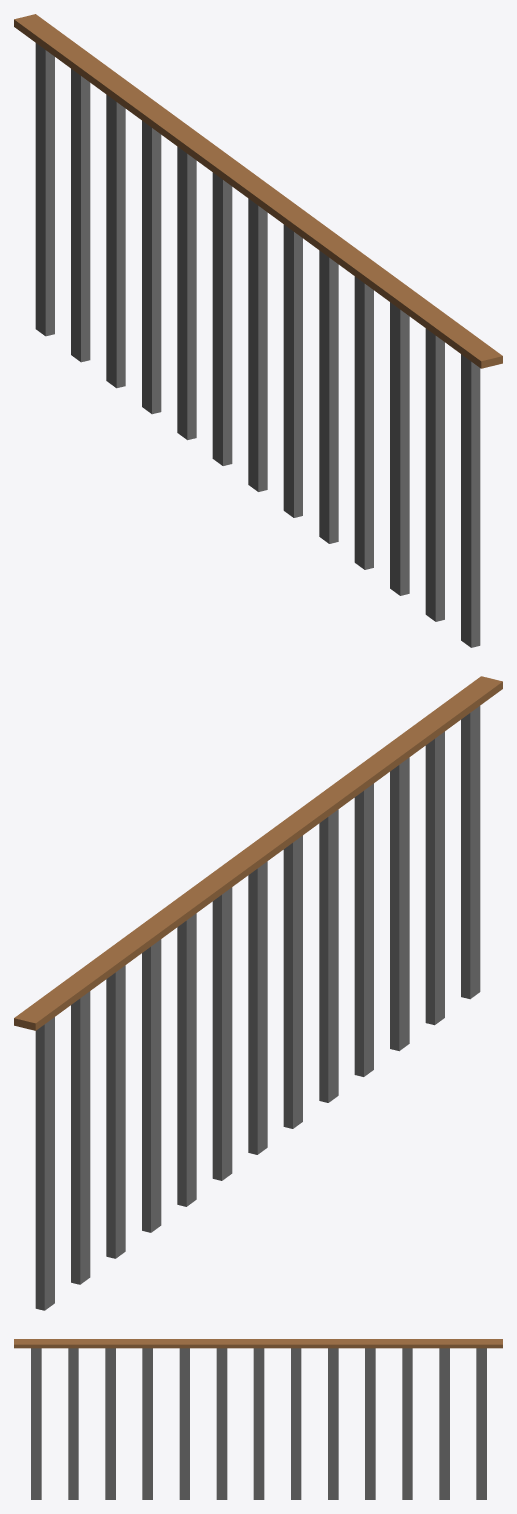
Rendered from gelenderSivi.fbx.
3 renders of one model, top to bottom at view 1: azimuth 30°, elevation 25°; view 2: azimuth 150°, elevation 25°; view 3: azimuth 270°, elevation 25°, orthographic. The views are drawn at different scales.
Visible parts, largest first — view 1: Cube; view 2: Cube; view 3: Cube.
Boxes of the visible parts, <box> form: Cube: <box>14,14,502,647</box>; Cube: <box>14,676,502,1310</box>; Cube: <box>14,1339,502,1499</box>.
Bounding box in the file's own units: 27.04 × 356 × 1006.
